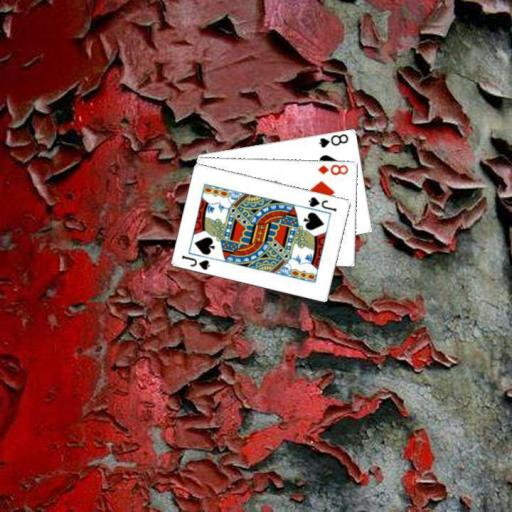card-corner: (316, 130, 350, 148), (179, 252, 211, 271), (305, 194, 338, 212), (315, 162, 350, 176)
